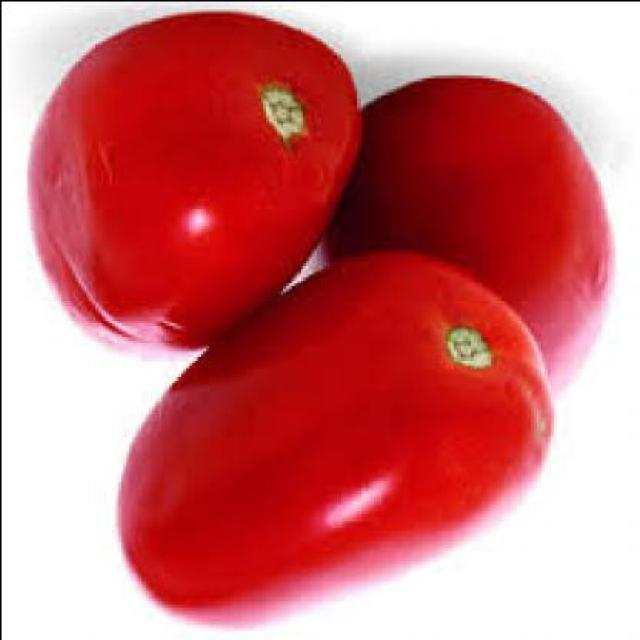BIODEGRADABLE: (122, 256, 555, 632), (28, 9, 364, 356), (318, 74, 612, 398)
